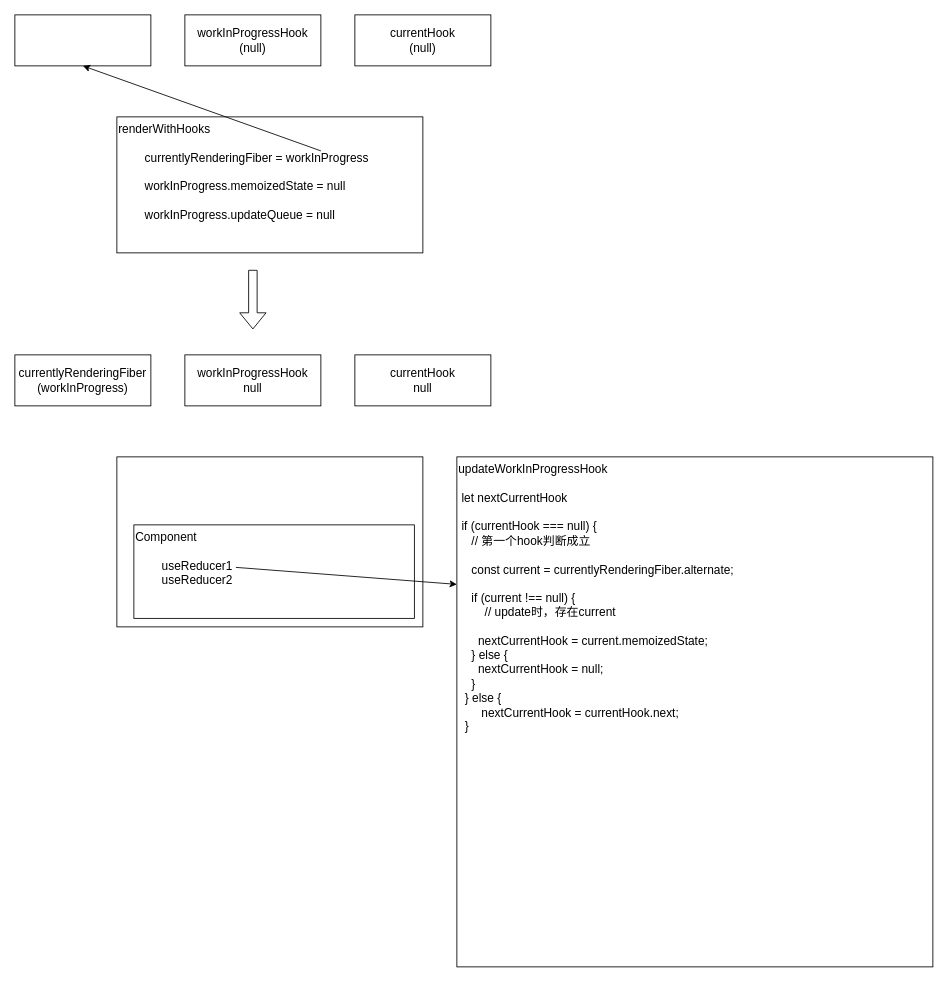
Some shapes in this 948 by 982 pixel diagram are drawn without their labels. The shapes that lost their labels are listed below. From the top down, each one's box as (x1, y1, x2, y2) in pixels, then its label:
(14, 14, 151, 66): currentlyRenderingFiber (null)
(116, 456, 423, 627): renderWithHooks // ...
